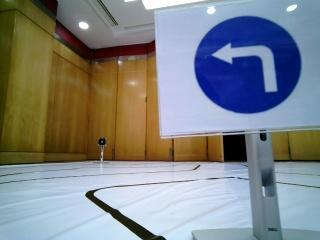left: (159, 10, 320, 119)
